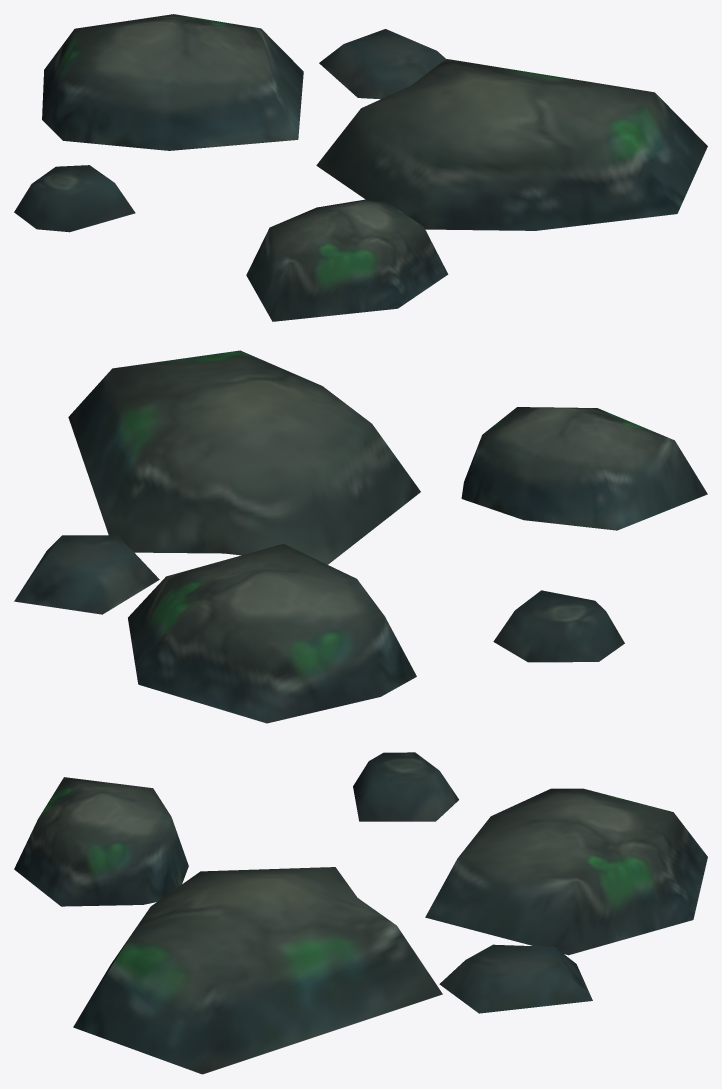
File: h5_suishitou_b.FBX
3 renders of one model, top to bottom at view 1: azimuth 30°, elevation 25°; view 2: azimuth 150°, elevation 25°; view 3: azimuth 270°, elevation 25°, orthographic. The views are drawn at different scales.
Parts seen in each view (by area): view 1: h5_suishitou_b; view 2: h5_suishitou_b; view 3: h5_suishitou_b.
Boxes of the visible parts, x1,y1,x2,y2 form: h5_suishitou_b: [14, 14, 707, 321]; h5_suishitou_b: [14, 350, 707, 723]; h5_suishitou_b: [14, 752, 707, 1074].
Size of the model in its own units: 4.19 by 0.6088 by 4.1.
1 material, 1 textured.
